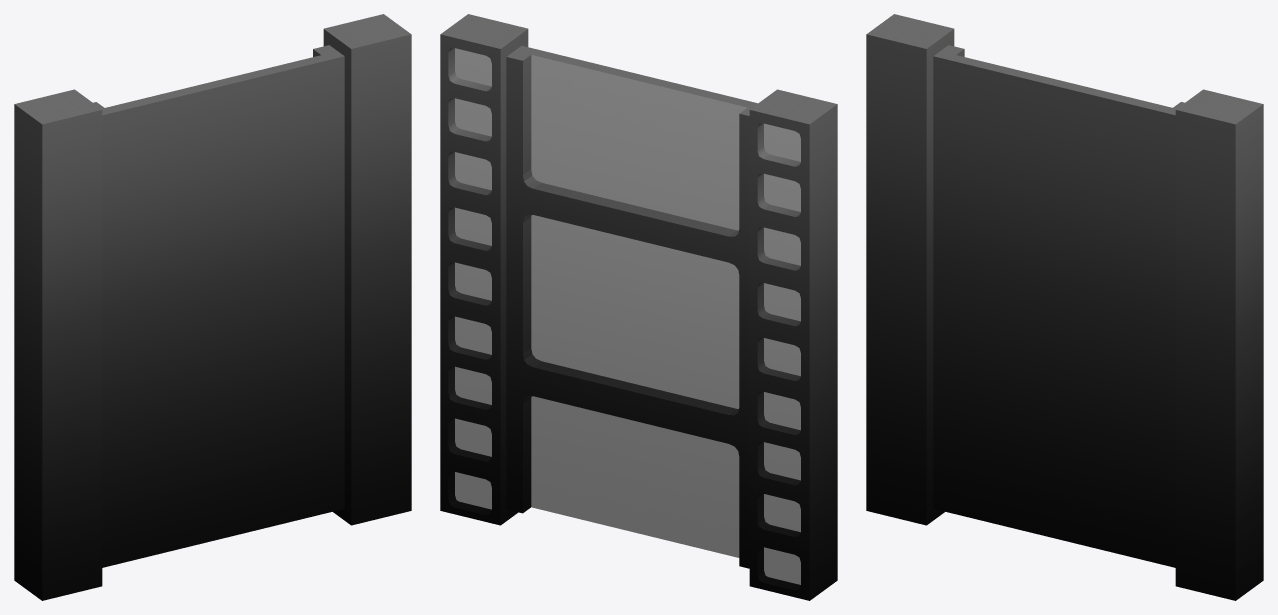
Rendered from cinema_strip.FBX.
3 views of the same model, side by side, from view 1: azimuth 30°, elevation 25°; view 2: azimuth 150°, elevation 25°; view 3: azimuth 330°, elevation 25° (orthographic).
Parts seen in each view (by area): view 1: cinema_strip; view 2: cinema_strip; view 3: cinema_strip.
Boxes of the visible parts, left/top/right/bottom form: cinema_strip: left=14, top=14, right=411, bottom=600; cinema_strip: left=440, top=14, right=837, bottom=600; cinema_strip: left=866, top=14, right=1263, bottom=600.
Size of the model in its own units: 984 by 1213 by 128.
Materials: 1 (1 with a texture image).
